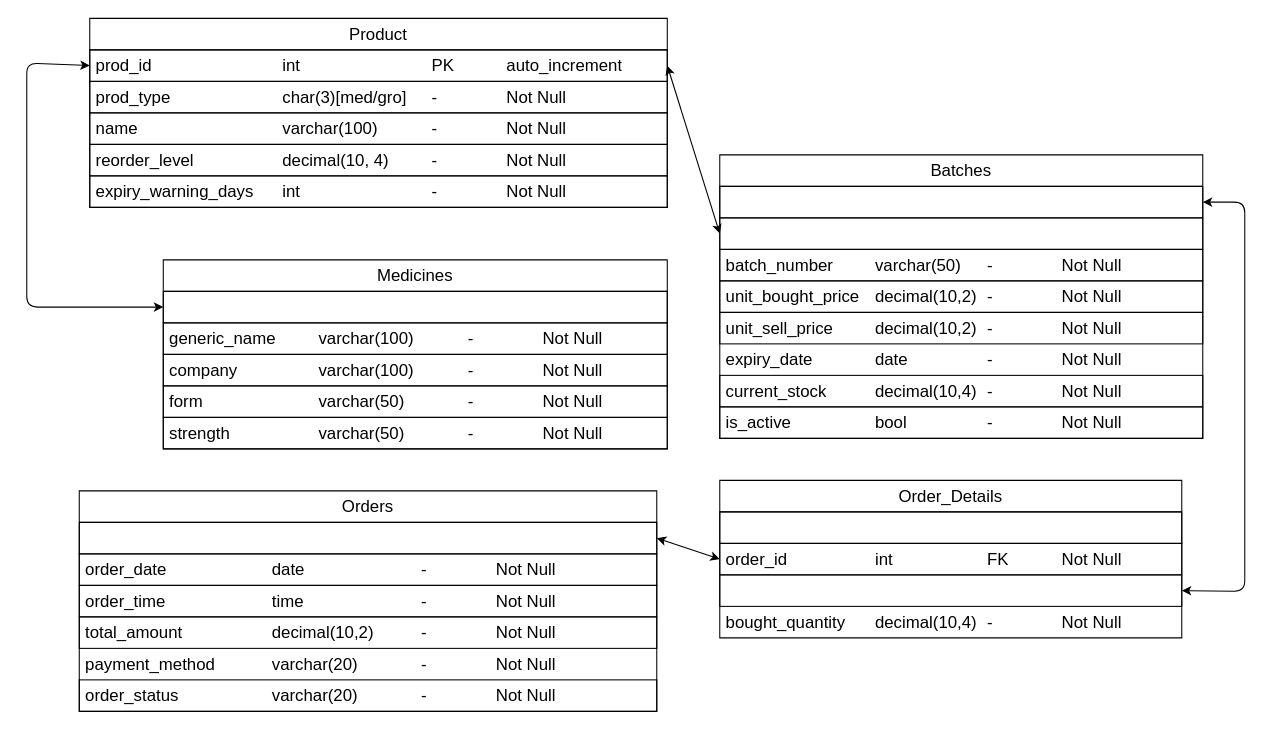
Image size: 1273x730. Some labels were removed from this diagram. The centre of each missing label's shape, as x and y in pixels:
"batch_id int FK Not Null" goes at pixel 950 590.
"batch_id int PK auto_increment" goes at pixel 961 201.
"order_detail_id int PK auto_increment" goes at pixel 950 527.
"order_id int PK auto_increment" goes at pixel 367 537.
"prod_id int FK Not Null" goes at pixel 961 233.
"prod_id int PK/FK N ot Null" goes at pixel 414 306.
